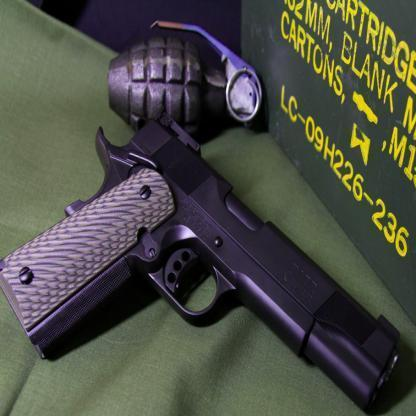Grenade: (108, 21, 264, 138)
Pistol: (0, 114, 400, 412)
